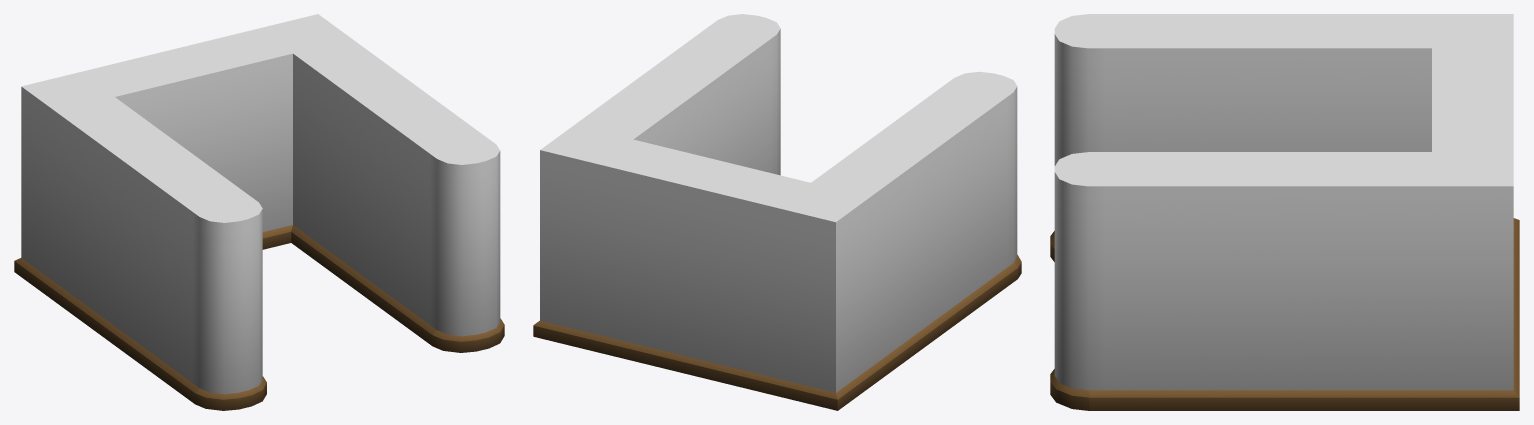
Rendered from bath.fbx.
3 views of the same model, side by side, from view 1: azimuth 30°, elevation 25°; view 2: azimuth 150°, elevation 25°; view 3: azimuth 270°, elevation 25° (orthographic). The views are drawn at different scales.
Visible parts, largest first — view 1: SM_bath; view 2: SM_bath; view 3: SM_bath.
Boxes of the visible parts, x1,y1,x2,y2 form: SM_bath: (14,14,504,410); SM_bath: (533,14,1021,410); SM_bath: (1050,14,1519,410).
Bounding box in the file's own units: 515 × 300 × 575.
